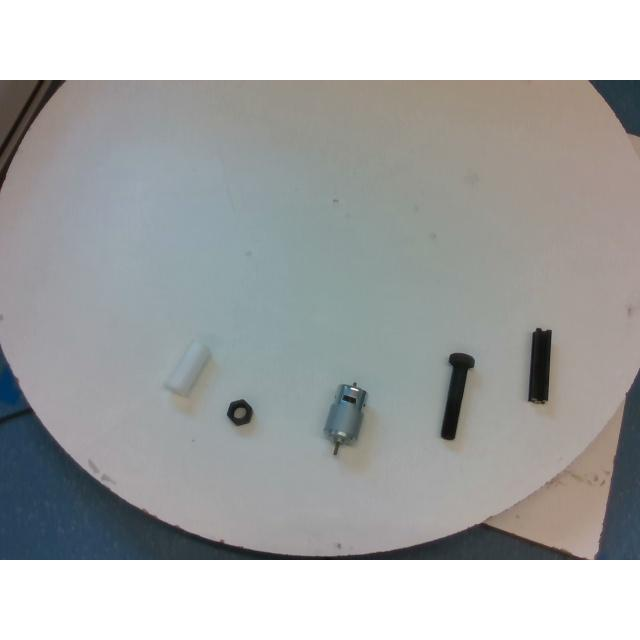F20_20_B: (528, 328, 552, 404)
M20: (228, 399, 252, 425)
M20_100: (440, 353, 474, 439)
Motor2: (324, 382, 366, 454)
Spacer: (162, 340, 210, 396)
